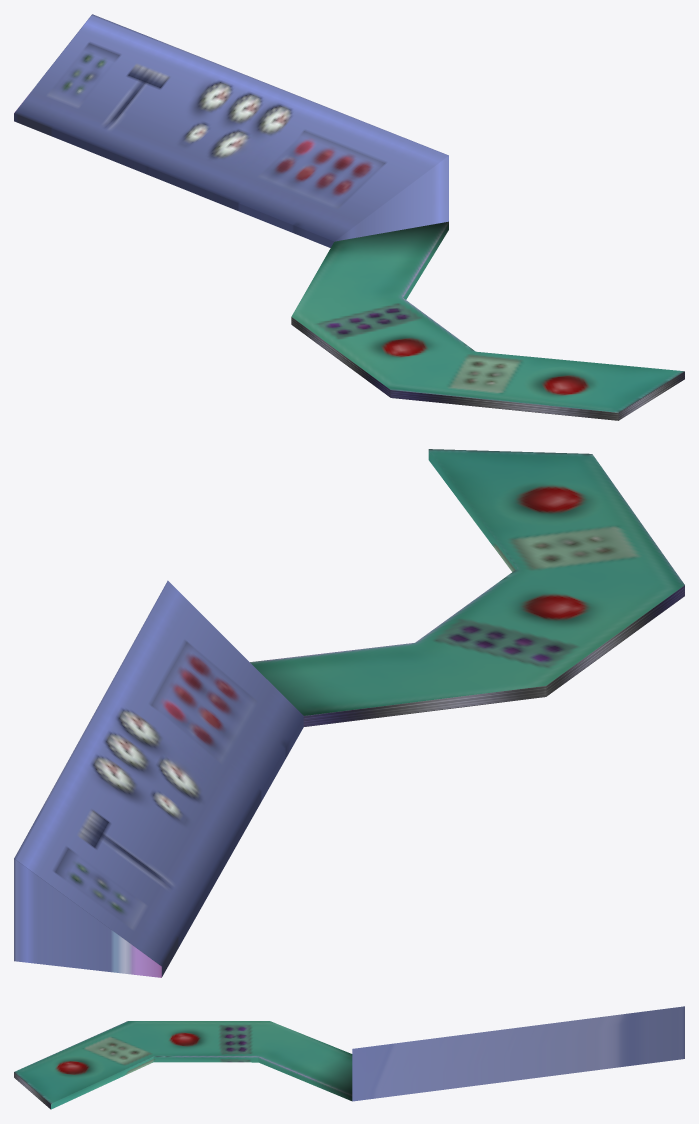
3 renders of one model, top to bottom at view 1: azimuth 30°, elevation 25°; view 2: azimuth 150°, elevation 25°; view 3: azimuth 270°, elevation 25°, orthographic. The views are drawn at different scales.
Parts seen in each view (by area): view 1: Box12; view 2: Box12; view 3: Box12.
Part boxes in pixels (box(x1,y1,x2,y2)): Box12: box(14, 14, 684, 420); Box12: box(14, 449, 684, 977); Box12: box(14, 1006, 684, 1109).
Bounding box in the file's own units: 196 × 57.91 × 669.
1 material, 1 textured.
